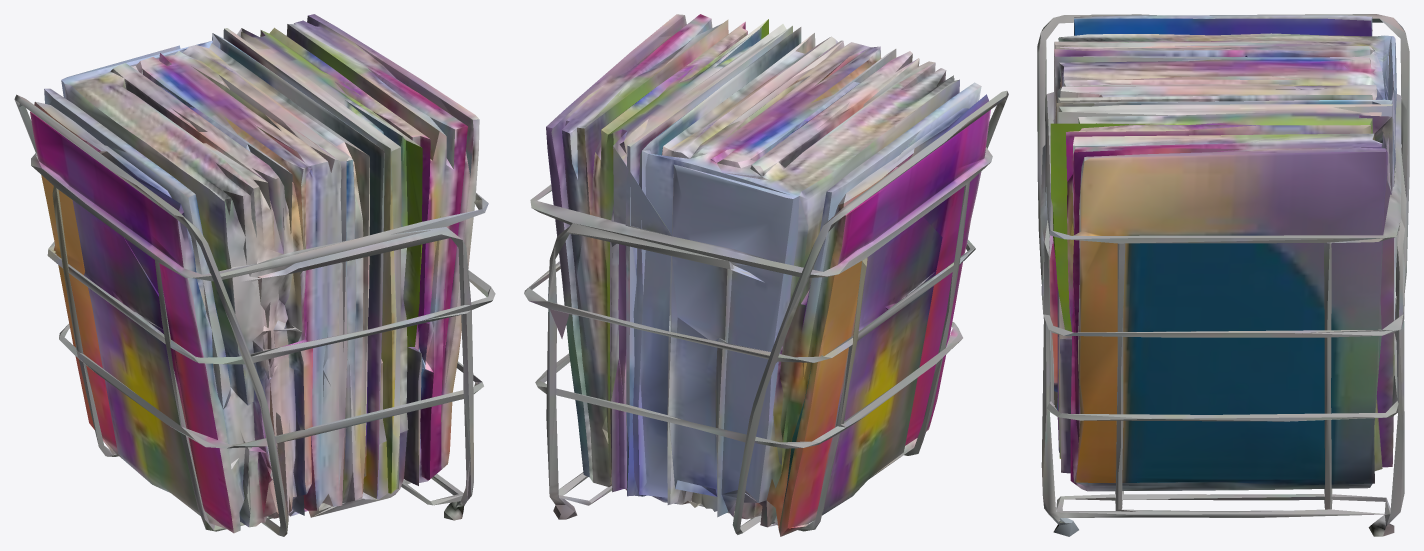
Rendered from rack.glb.
3 views of the same model, side by side, from view 1: azimuth 30°, elevation 25°; view 2: azimuth 150°, elevation 25°; view 3: azimuth 270°, elevation 25° (orthographic).
Parts seen in each view (by area): view 1: rack; view 2: rack; view 3: rack.
Boxes of the visible parts, left/top/right/bottom form: rack: left=14, top=14, right=495, bottom=536; rack: left=524, top=14, right=1008, bottom=536; rack: left=1037, top=14, right=1409, bottom=536.
Bounding box in the file's own units: 1.13 × 1.3 × 1.11.
1 material, 1 textured.
